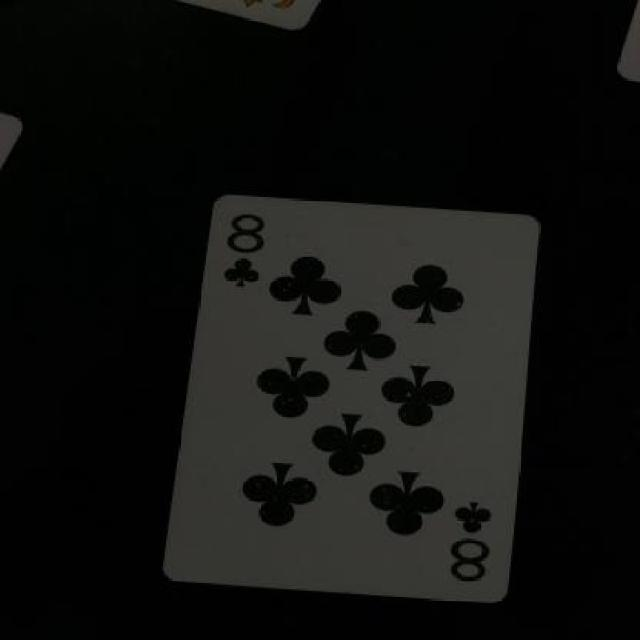8C: (207, 212, 276, 306), (444, 483, 502, 594)
